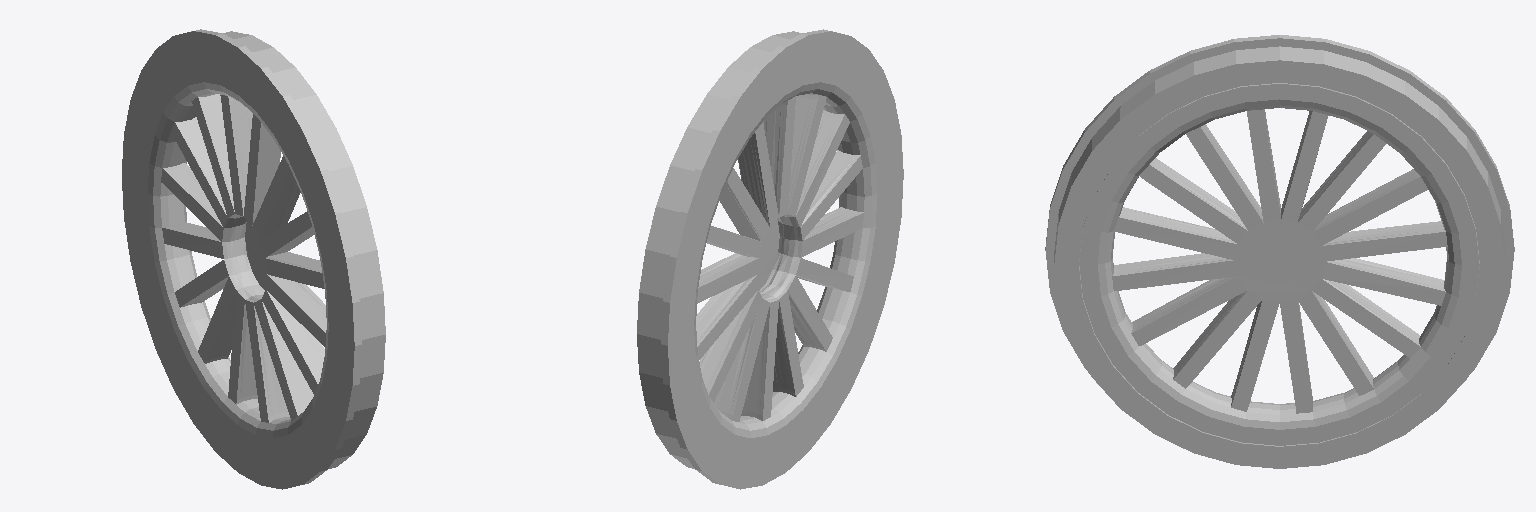
Rendered from kolo2.obj.
The picture shows the model from 3 angles: view 1: azimuth 30°, elevation 25°; view 2: azimuth 150°, elevation 25°; view 3: azimuth 270°, elevation 25°; orthographic projection.
Visible parts, largest first — view 1: Wheels.001_Cylinder.051; view 2: Wheels.001_Cylinder.051; view 3: Wheels.001_Cylinder.051.
Boxes of the visible parts, <box> form: Wheels.001_Cylinder.051: <box>122,29,385,489</box>; Wheels.001_Cylinder.051: <box>637,29,903,489</box>; Wheels.001_Cylinder.051: <box>1045,35,1514,468</box>.
Size of the model in its own units: 0.1302 by 1.43 by 1.43.